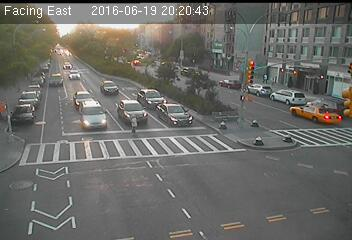neg: (178, 93, 209, 135), (71, 74, 98, 110), (95, 68, 114, 94), (39, 79, 57, 103), (40, 55, 54, 73)
pos: (123, 112, 143, 139)
